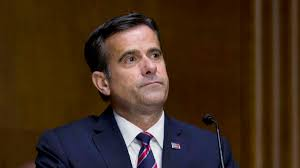No-Glasses: (112, 49, 163, 69)
